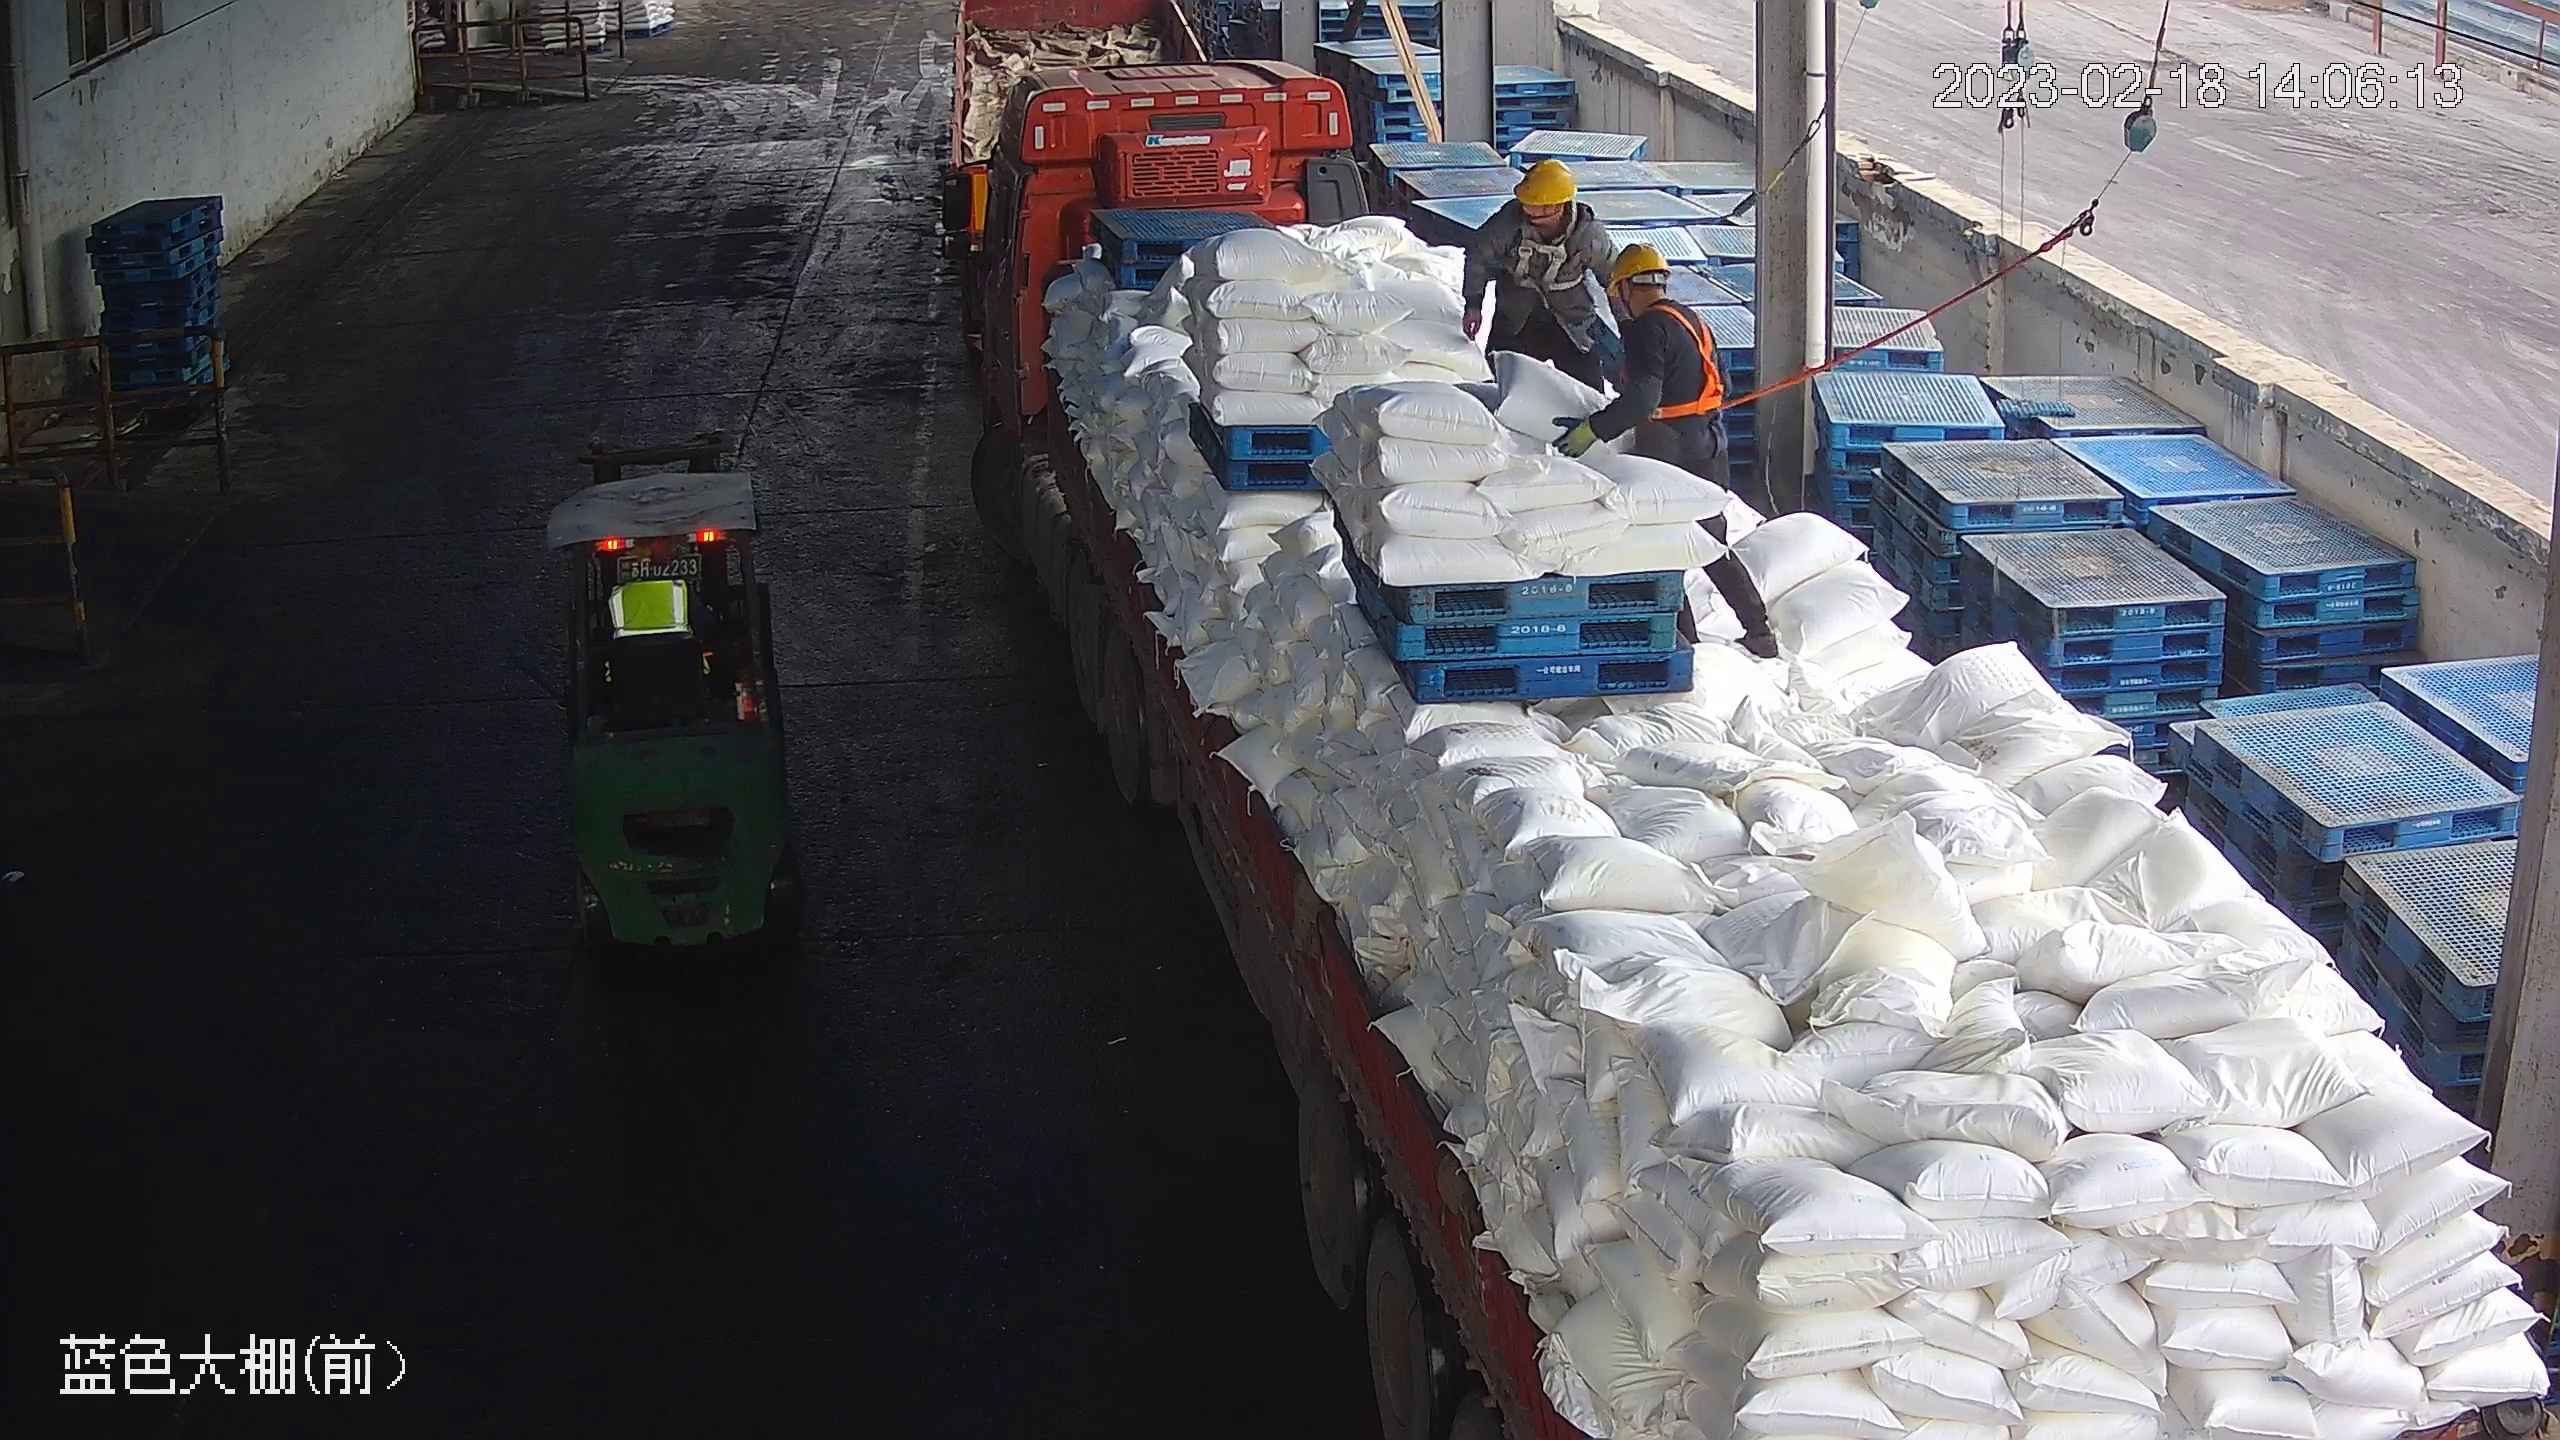belt: (1638, 302, 1740, 423), (1506, 209, 1581, 293)
head: (1595, 237, 1719, 352), (1482, 156, 1602, 254)
helmet: (1601, 240, 1671, 295), (1513, 156, 1576, 205)
people: (1552, 238, 1779, 664), (1457, 152, 1618, 408)
truck: (956, 45, 2548, 1440)
